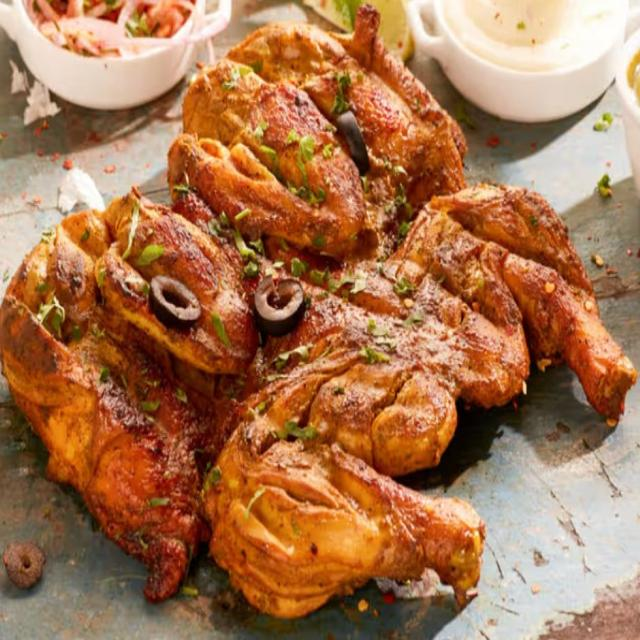CHICKEN FRY: (0, 19, 639, 638)
